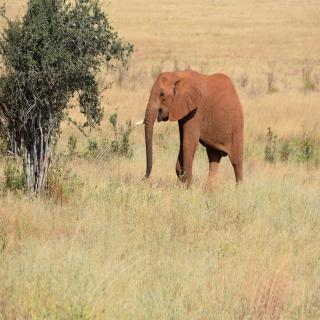Elephant: (136, 67, 249, 195)
